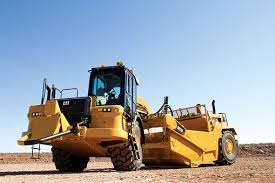excavator: (24, 62, 153, 174)
truck: (141, 102, 242, 168)
